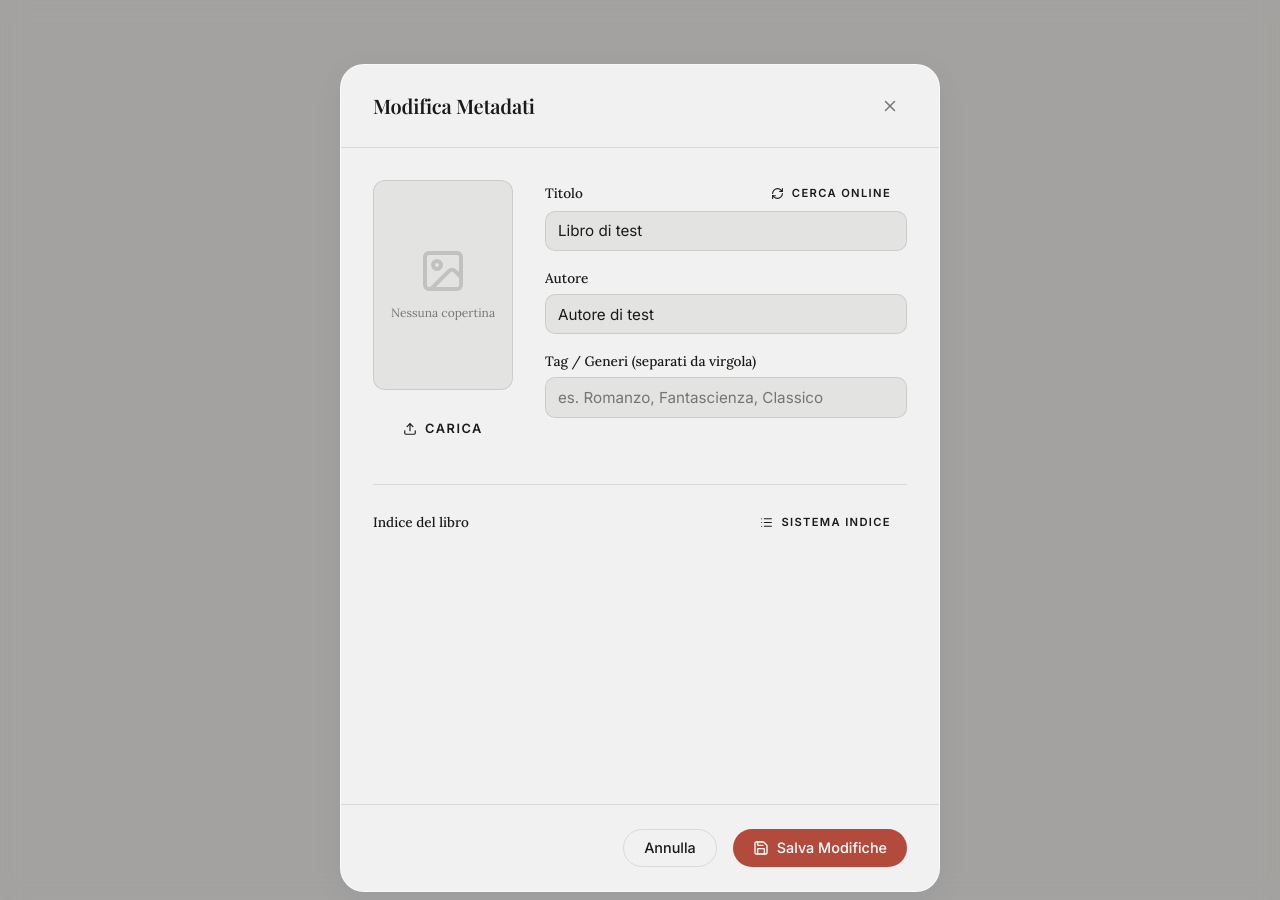
Test: EditMetadataModal TOC tools › shows detected chapters after clicking "Sistema Indice"
The image size is (1280, 900).
What coordinates should you click on to do the following:
click the button "Sistema Indice"
I would click on:
 (826, 522)
Its box is 744,509 -> 907,536.
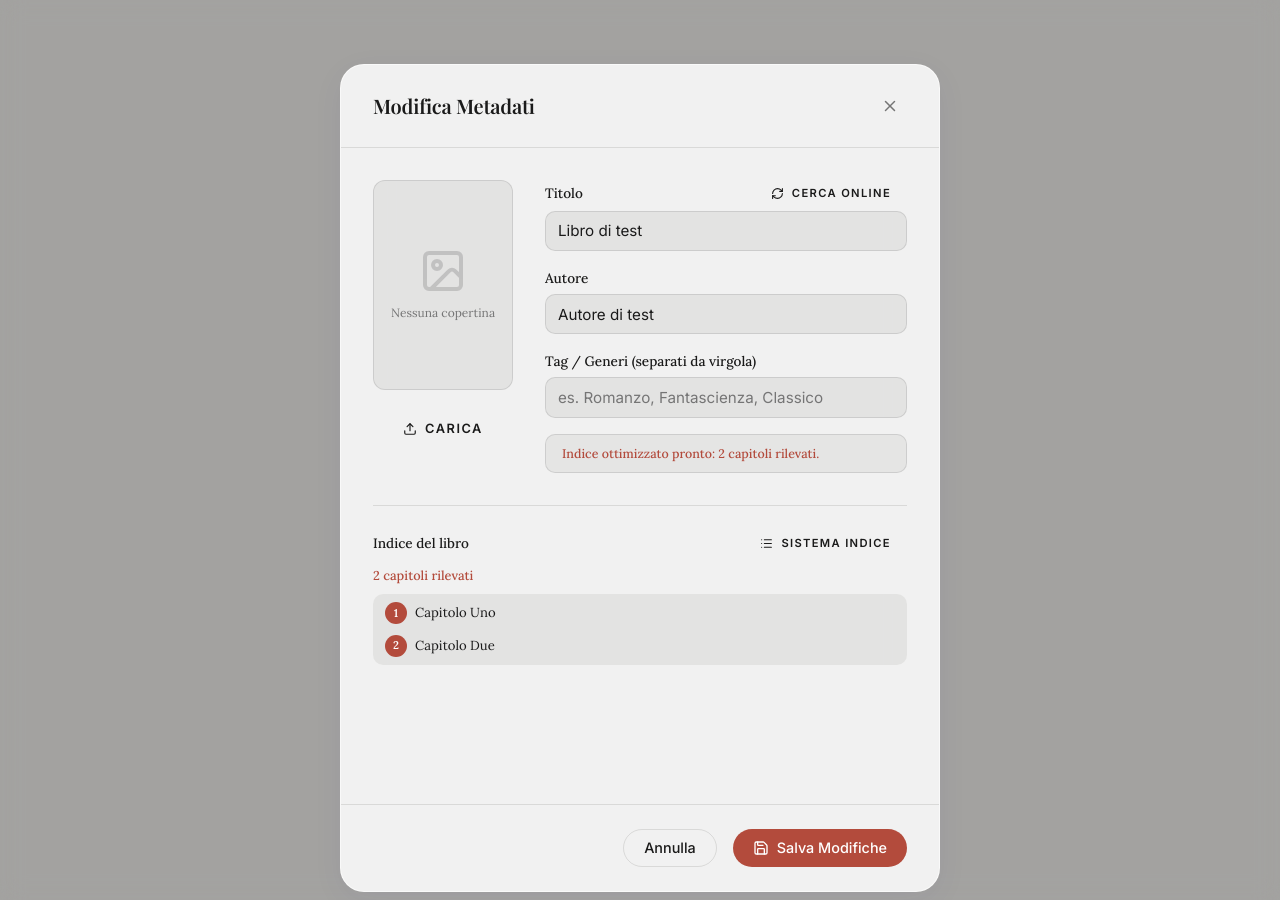
Check: the text "2 capitoli rilevati" is shown, box 373,567 -> 473,584
Check: the text "Capitolo Uno" is shown, box 415,602 -> 496,625
Check: the text "Capitolo Due" is shown, box 415,635 -> 495,657
